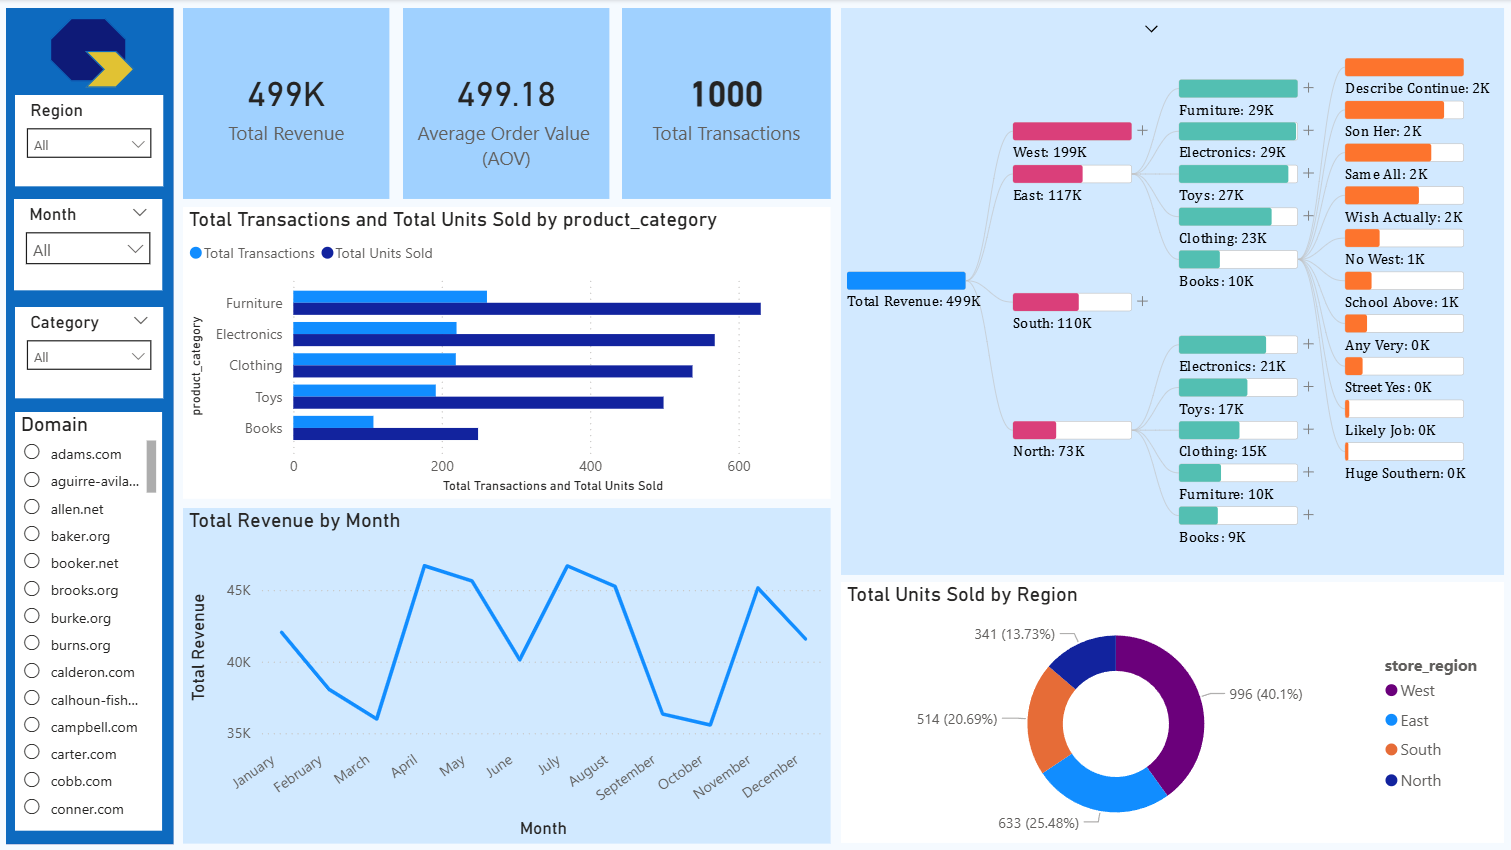

What the dashboard file says about the page in this screenshot:
{"tool":"powerbi","page":{"name":"Page 1","canvas":[1280,720],"ordinal":0},"visuals":[{"type":"card","fields":{"Values":["Table.Total Revenue"]},"box":[157.8,7.3,174.1,161.4],"z":0},{"type":"card","fields":{"Values":["Table.Average Order Value (AOV)"]},"box":[342.8,7.3,174.1,161.4],"z":1000},{"type":"card","fields":{"Values":["Table.Total Transactions"]},"box":[527.8,7.3,175.9,161.4],"z":2000},{"type":"lineChart","fields":{"Category":["obt_sales.sales_date.Variation.Date Hierarchy.Month","obt_sales.sales_date.Variation.Date Hierarchy.Day"],"Y":["Table.Total Revenue"]},"box":[157.8,428.9,545.9,282.9],"z":3000},{"type":"decomposition50DB3783432B40A69C0B91926CE74CD9","fields":{"Category":["obt_sales.store_region","obt_sales.product_category","obt_sales.product_name"],"Measure":["Table.Total Revenue"]},"box":[712.7,7.3,559.5,477.9],"z":4000},{"type":"clusteredBarChart","fields":{"Category":["obt_sales.product_category"],"Y":["Table.Total Transactions","Table.Total Units Sold"]},"box":[157.8,175,545.9,245.7],"z":5000},{"type":"shape","box":[8.2,7.3,141.5,704.6],"z":6000},{"type":"slicer","fields":{"Values":["obt_sales.sales_date.Variation.Date Hierarchy.Month"]},"box":[15.4,168.7,125.1,77.1],"z":7000},{"type":"slicer","fields":{"Values":["obt_sales.product_category"]},"box":[16.3,259.3,125.1,77.1],"z":8000},{"type":"slicer","fields":{"Values":["obt_sales.store_region"]},"box":[16.3,80.7,125.1,77.1],"z":9000},{"type":"listSlicer","fields":{"Values":["obt_sales.customer_email_domain"]},"box":[16.3,348.2,124.2,352.7],"z":9001},{"type":"shape","box":[45.3,16.3,64.4,53.5],"z":9002},{"type":"shape","box":[75.3,43.5,41.7,30.8],"z":9003},{"type":"donutChart","title":"Total Units Sold by Region","fields":{"Category":["obt_sales.store_region"],"Y":["Table.Total Units Sold"]},"box":[712.7,491.5,559.5,220.4],"z":9004}]}

Visuals, with their boxes in screenshot pixels (x1, y1, x2, y2), scaled from the page's 1280x720 canvas onto the 1511x850 screenshot:
card - Table.Total Revenue: rect(186, 9, 392, 199)
card - Table.Average Order Value (AOV): rect(405, 9, 610, 199)
card - Table.Total Transactions: rect(623, 9, 831, 199)
lineChart - obt_sales.sales_date.Variation.Date Hierarchy.Month x obt_sales.sales_date.Variation.Date Hierarchy.Day: rect(186, 506, 831, 840)
decomposition50DB3783432B40A69C0B91926CE74CD9 - obt_sales.store_region x obt_sales.product_category: rect(841, 9, 1502, 573)
clusteredBarChart - obt_sales.product_category x Table.Total Transactions: rect(186, 207, 831, 497)
shape: rect(10, 9, 177, 840)
slicer - obt_sales.sales_date.Variation.Date Hierarchy.Month: rect(18, 199, 166, 290)
slicer - obt_sales.product_category: rect(19, 306, 167, 397)
slicer - obt_sales.store_region: rect(19, 95, 167, 186)
listSlicer - obt_sales.customer_email_domain: rect(19, 411, 166, 827)
shape: rect(53, 19, 129, 82)
shape: rect(89, 51, 138, 88)
"Total Units Sold by Region" donutChart: rect(841, 580, 1502, 840)
